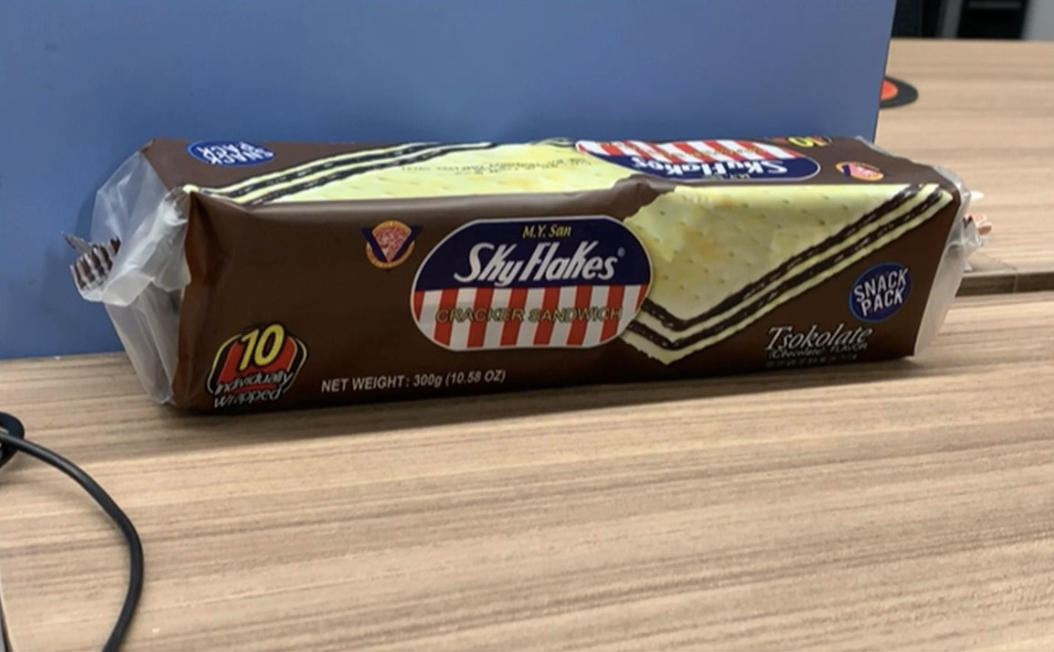crackers_450g: (183, 152, 906, 369)
